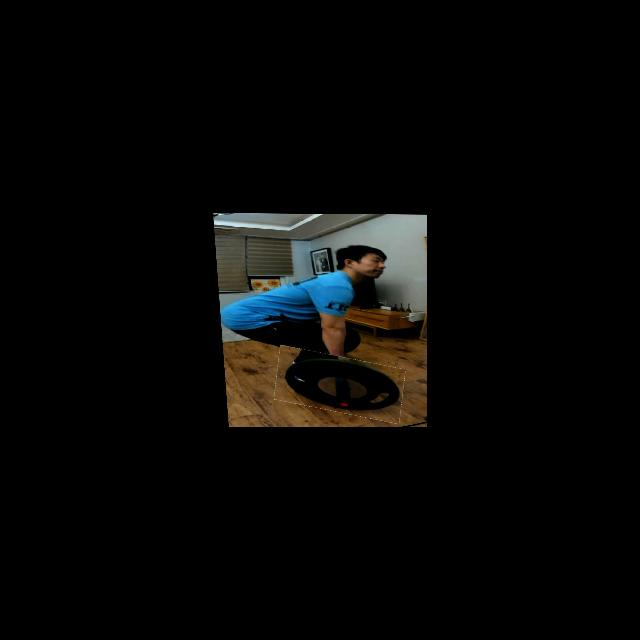barbell: (270, 350, 403, 418)
